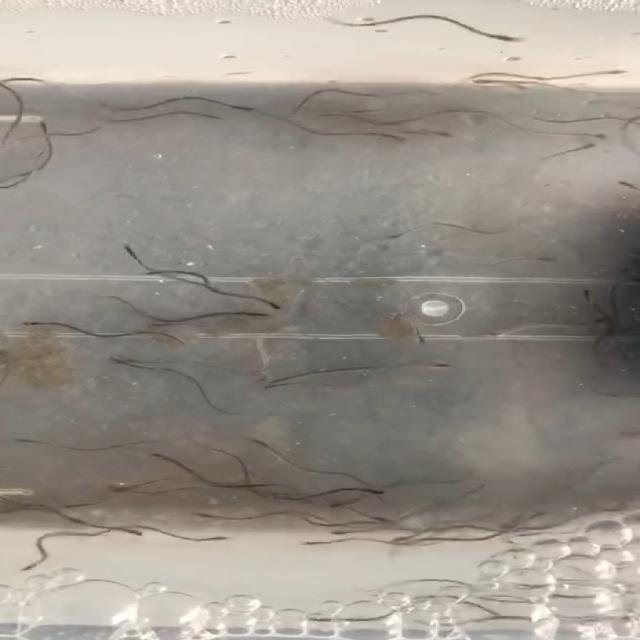active_glass_eel: (236, 306, 282, 325), (478, 29, 534, 44), (362, 132, 420, 146), (388, 224, 428, 244), (252, 294, 288, 314), (406, 126, 454, 140), (151, 450, 184, 470), (140, 319, 182, 334), (297, 535, 342, 549), (460, 76, 517, 87), (566, 139, 604, 155), (594, 64, 634, 79), (31, 118, 58, 140), (185, 534, 234, 546), (18, 320, 63, 333), (390, 530, 429, 545), (345, 484, 385, 498), (112, 524, 152, 538), (362, 509, 394, 525), (188, 107, 227, 120), (576, 284, 604, 302), (106, 483, 142, 497), (9, 433, 42, 448), (107, 354, 142, 368), (424, 361, 464, 373), (287, 490, 317, 506), (475, 328, 518, 339), (220, 102, 259, 114), (533, 254, 563, 269), (609, 178, 640, 192), (249, 367, 273, 385), (260, 382, 295, 394), (328, 526, 363, 538), (197, 512, 232, 524), (16, 558, 46, 572), (135, 267, 169, 279), (412, 328, 432, 346), (247, 438, 277, 450), (322, 500, 353, 511), (582, 132, 614, 142)
